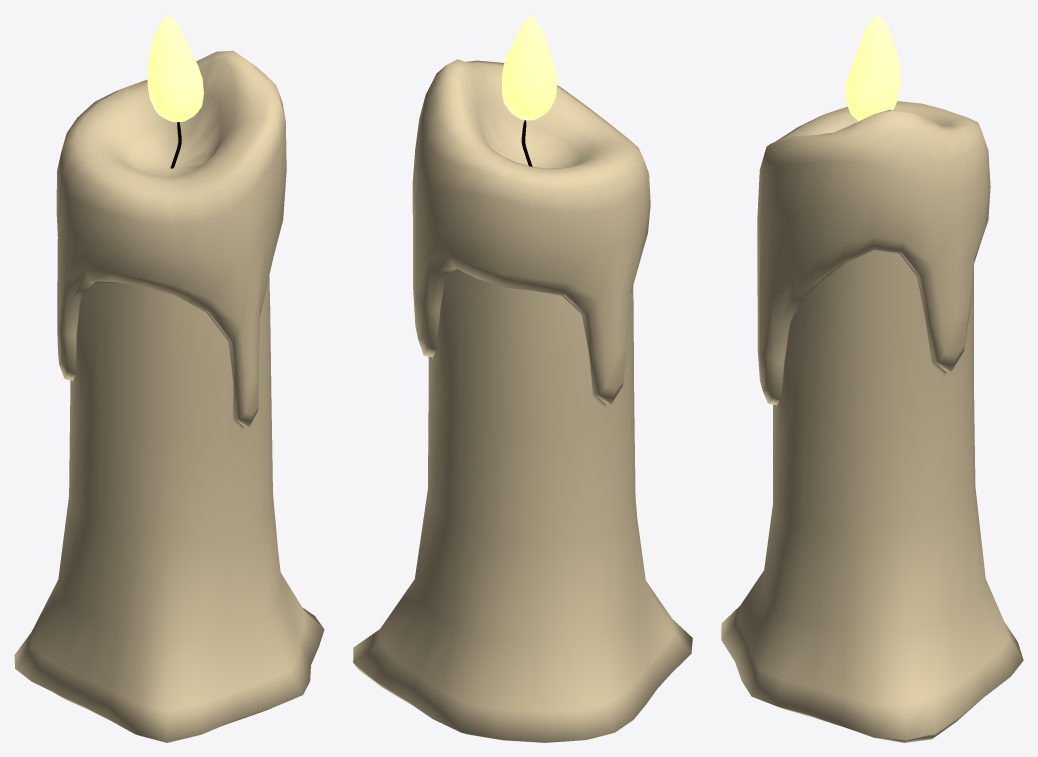
The model's file is Candle.fbx.
3 renders of one model, left to right at view 1: azimuth 30°, elevation 25°; view 2: azimuth 150°, elevation 25°; view 3: azimuth 270°, elevation 25°, orthographic. The views are drawn at different scales.
Visible parts, largest first — view 1: Roundcube; view 2: Roundcube; view 3: Roundcube.
Part boxes in pixels (box(x1,y1,x2,y2)): Roundcube: box(14, 14, 324, 742); Roundcube: box(353, 14, 692, 742); Roundcube: box(721, 14, 1023, 742).
Size of the model in its own units: 307 by 694 by 290.
